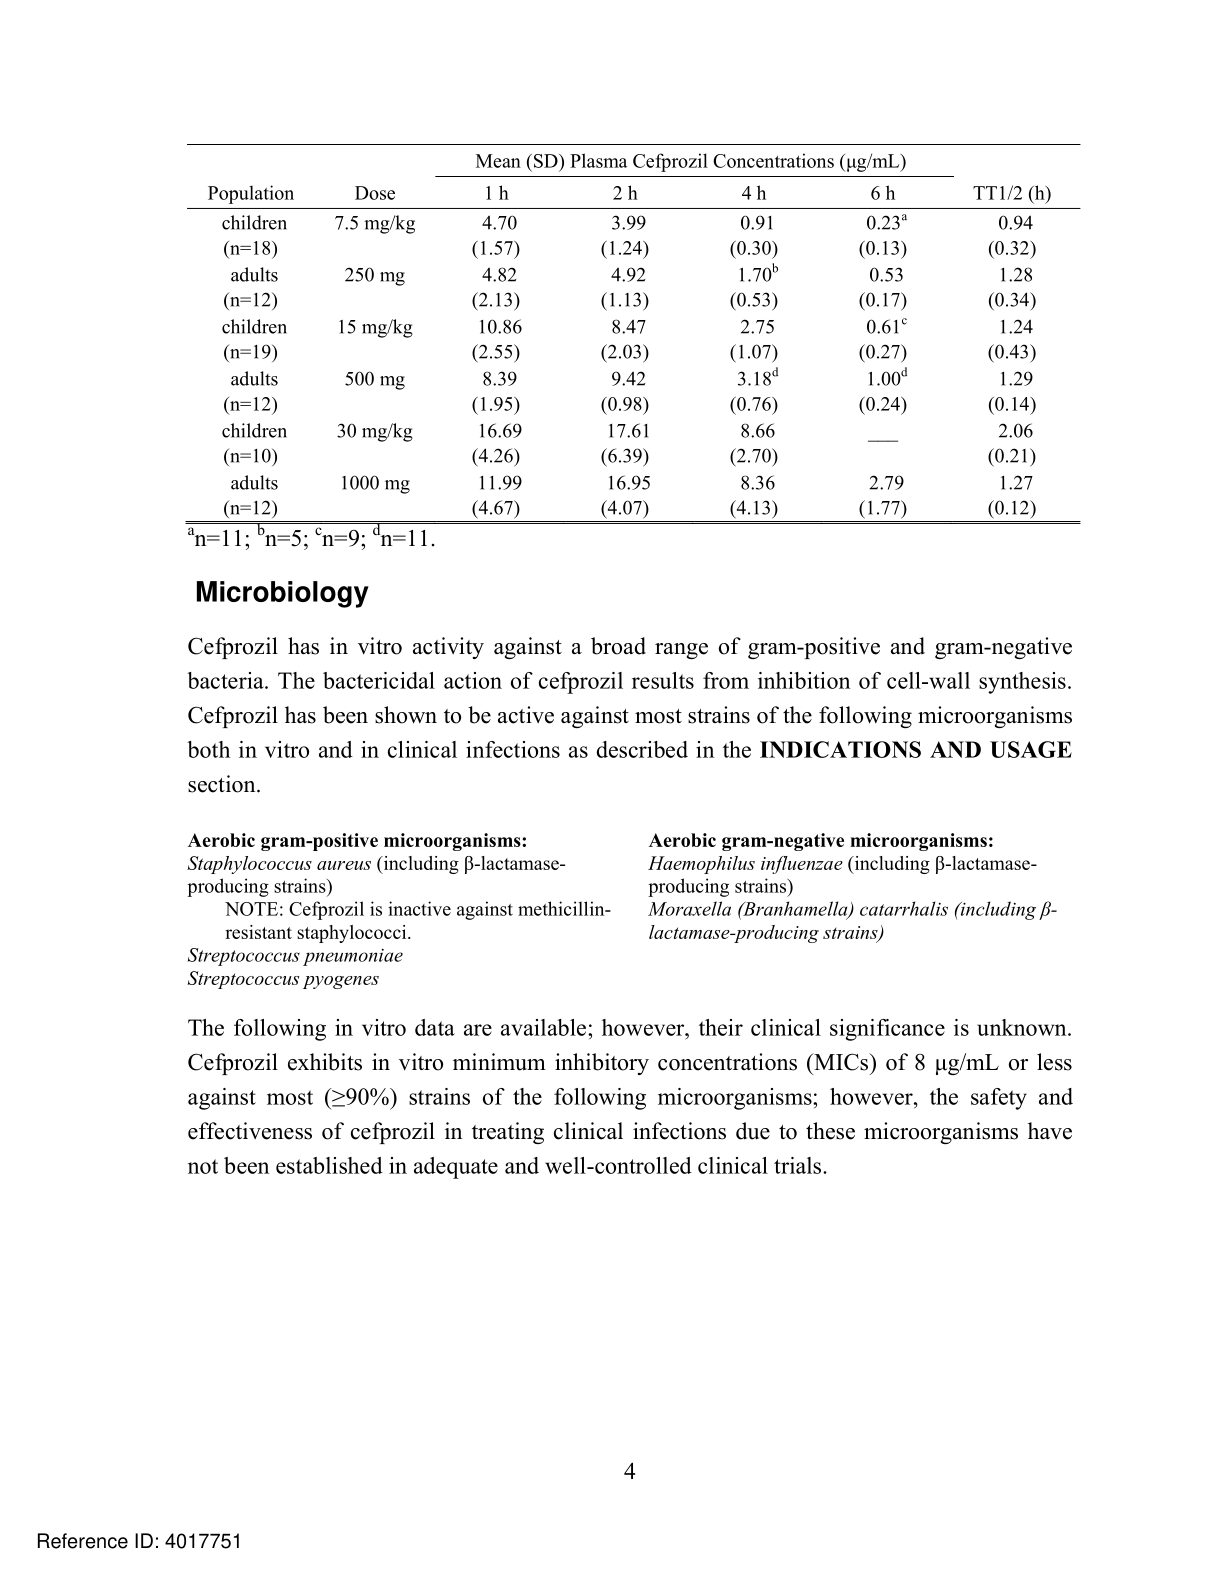partial_lined_merged_cells: (183, 140, 1083, 525)
